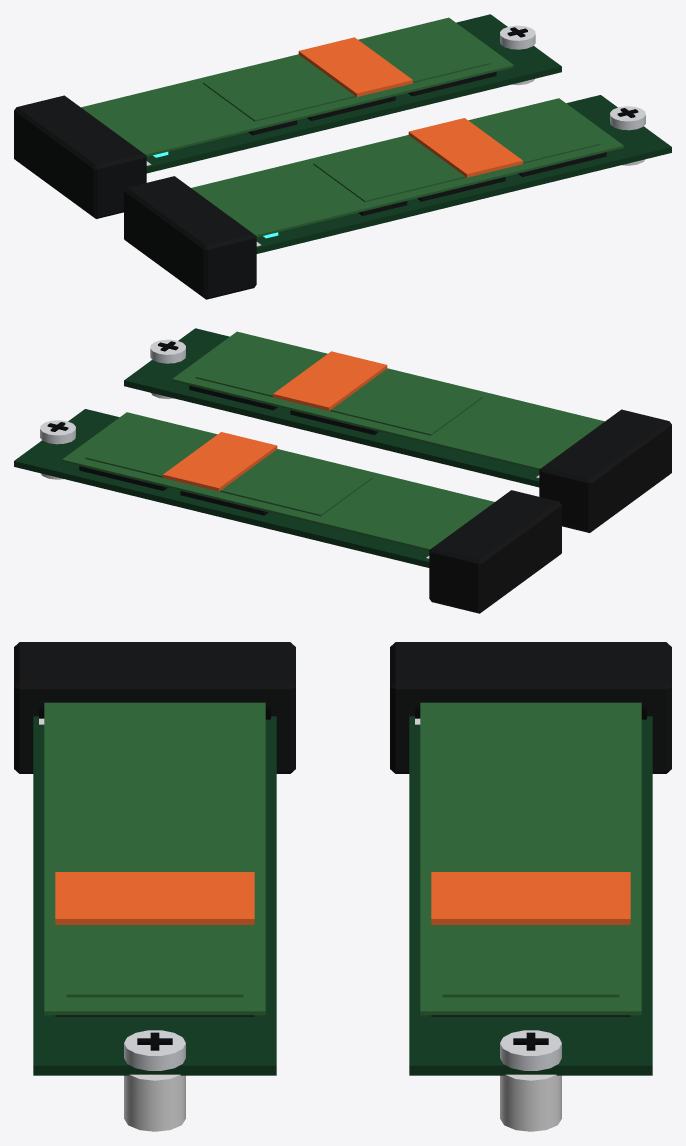
The model's file is hwm_sto_ssd_4tb.glb.
The picture shows the model from 3 angles, top to bottom: view 1: azimuth 30°, elevation 25°; view 2: azimuth 150°, elevation 25°; view 3: azimuth 270°, elevation 25°; orthographic projection. The views are drawn at different scales.
Visible parts, largest first — view 1: SSD_0, SSD_1, Slots, Screw_0, Screw_1; view 2: SSD_1, SSD_0, Slots, Screw_1, Screw_0; view 3: SSD_0, SSD_1, Slots, Screw_0, Screw_1.
Boxes of the visible parts, x1,y1,x2,y2 form: SSD_0: [81, 14, 561, 173]; SSD_1: [191, 95, 671, 253]; Slots: [14, 45, 645, 299]; Screw_0: [500, 25, 535, 49]; Screw_1: [610, 106, 645, 130]; SSD_1: [124, 328, 604, 487]; SSD_0: [14, 409, 494, 567]; Slots: [40, 359, 671, 613]; Screw_1: [150, 339, 185, 363]; Screw_0: [40, 420, 75, 444]; SSD_0: [409, 702, 652, 1075]; SSD_1: [33, 702, 276, 1075]; Slots: [14, 642, 671, 1131]; Screw_0: [500, 1030, 561, 1070]; Screw_1: [124, 1030, 185, 1070].
Size of the model in its own units: 0.0855 by 0.0092 by 0.0595.
